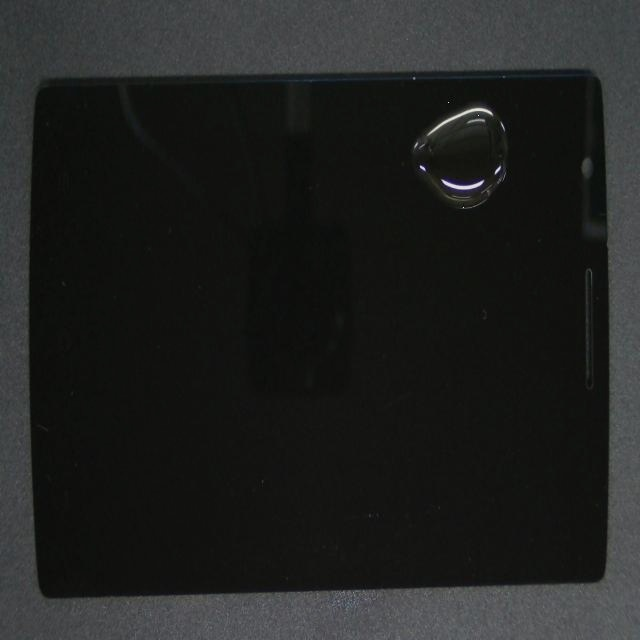oil: (250, 29, 640, 169)
